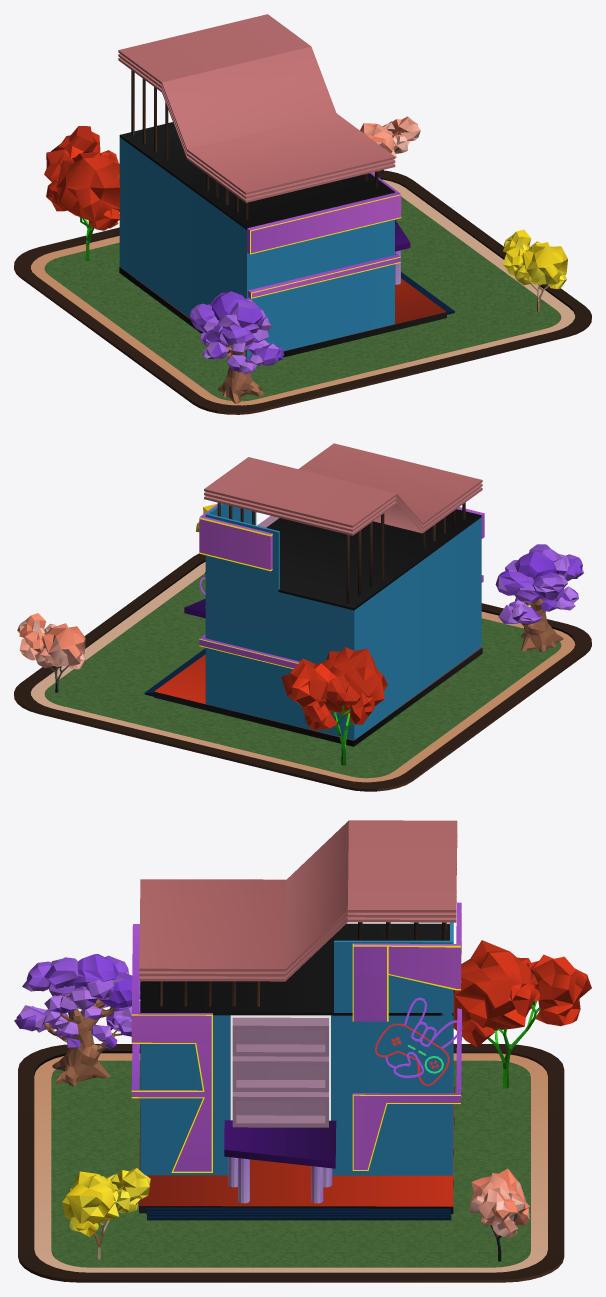
Rendered from Funzone_ext.glb.
The picture shows the model from 3 angles, top to bottom: view 1: azimuth 30°, elevation 25°; view 2: azimuth 150°, elevation 25°; view 3: azimuth 270°, elevation 25°; orthographic projection. The views are drawn at different scales.
Visible parts, largest first — view 1: Funzone_Ext; view 2: Funzone_Ext; view 3: Funzone_Ext.
Boxes of the visible parts, <box> form: Funzone_Ext: <box>14,14,591,414</box>; Funzone_Ext: <box>14,443,591,791</box>; Funzone_Ext: <box>14,820,591,1282</box>.
Bounding box in the file's own units: 69.47 × 37.9 × 71.35.
Materials: 3 (3 with a texture image).
